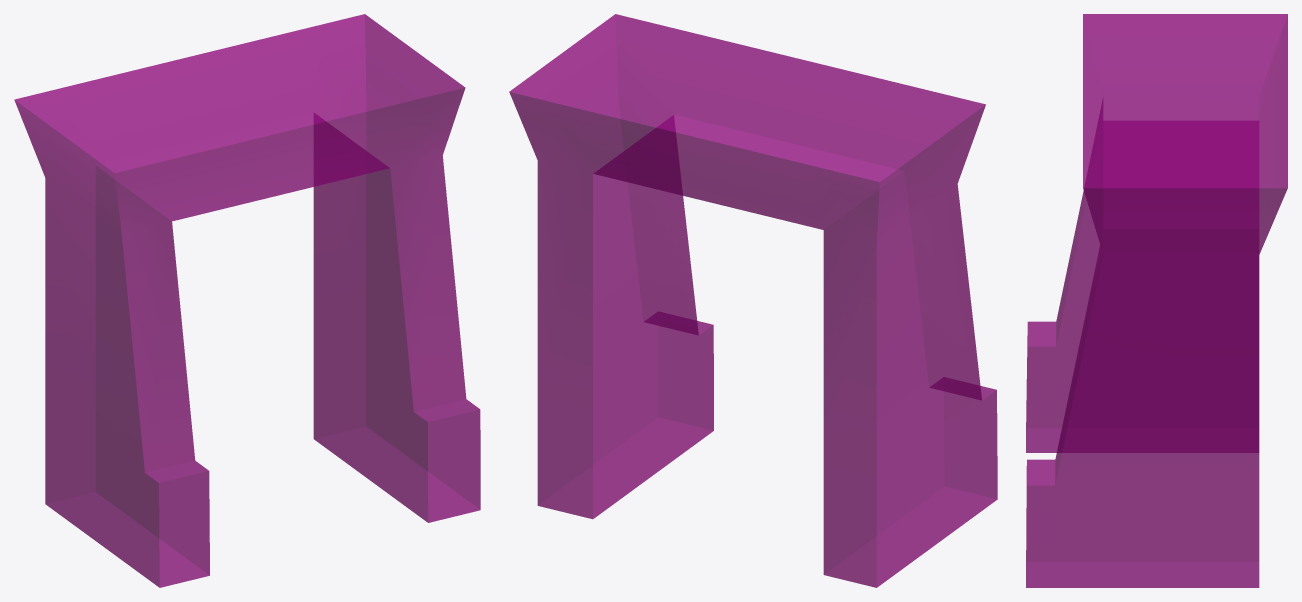
The model's file is SM_Bld_Wall_Temple_Ground_Door_Double_02_Collision.fbx.
The picture shows the model from 3 angles, left to right: view 1: azimuth 30°, elevation 25°; view 2: azimuth 150°, elevation 25°; view 3: azimuth 270°, elevation 25°; orthographic projection. The views are drawn at different scales.
Parts seen in each view (by area): view 1: SM_Bld_Wall_Temple_Ground_Door_Double_02_Collision; view 2: SM_Bld_Wall_Temple_Ground_Door_Double_02_Collision; view 3: SM_Bld_Wall_Temple_Ground_Door_Double_02_Collision.
Part boxes in pixels (x1=…): SM_Bld_Wall_Temple_Ground_Door_Double_02_Collision: x1=14, y1=14, x2=480, y2=587; SM_Bld_Wall_Temple_Ground_Door_Double_02_Collision: x1=509, y1=14, x2=997, y2=587; SM_Bld_Wall_Temple_Ground_Door_Double_02_Collision: x1=1026, y1=14, x2=1287, y2=587.
Bounding box in the file's own units: 568 × 617 × 360.
